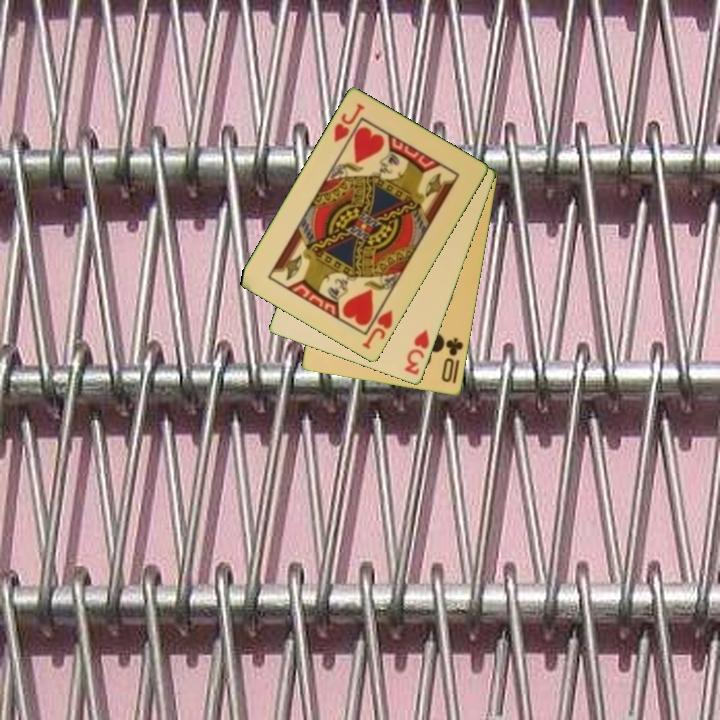10c: (438, 335, 466, 386)
3h: (401, 327, 432, 378)
Jh: (358, 298, 396, 352), (330, 100, 367, 146)
